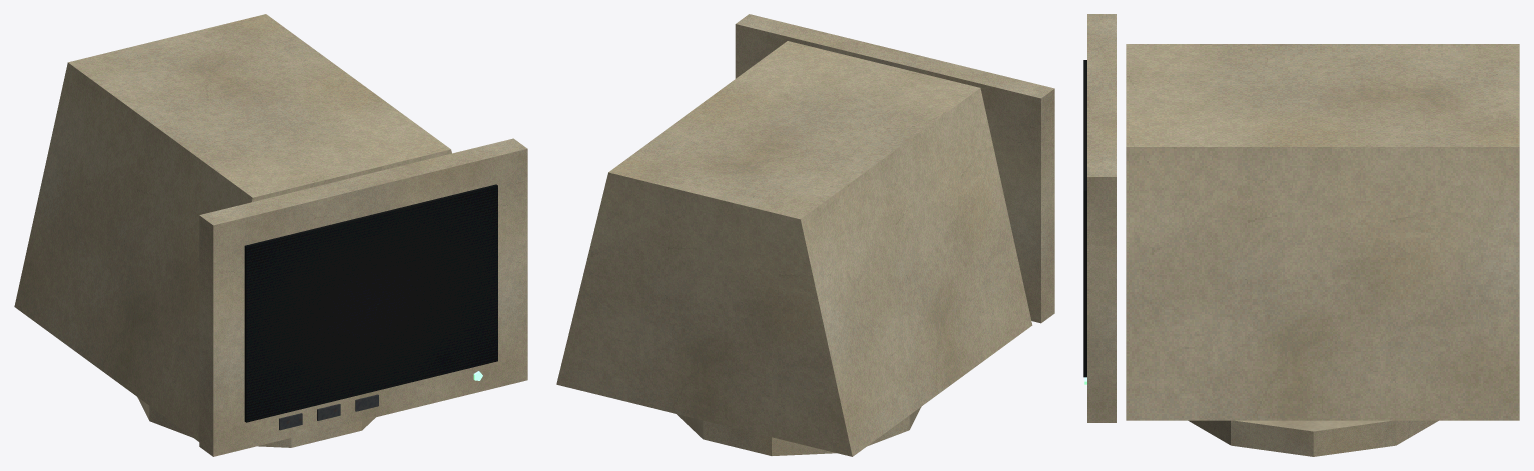
The model's file is monitor_crt.glb.
3 renders of one model, left to right at view 1: azimuth 30°, elevation 25°; view 2: azimuth 150°, elevation 25°; view 3: azimuth 270°, elevation 25°, orthographic. The views are drawn at different scales.
Visible parts, largest first — view 1: monitor_crt; view 2: monitor_crt; view 3: monitor_crt.
Part boxes in pixels (x1,y1,x2,y2): monitor_crt: [14, 14, 527, 456]; monitor_crt: [556, 14, 1054, 456]; monitor_crt: [1083, 14, 1519, 456].
Size of the model in its own units: 0.412 by 0.356 by 0.466.
Materials: 4 (3 with a texture image).
